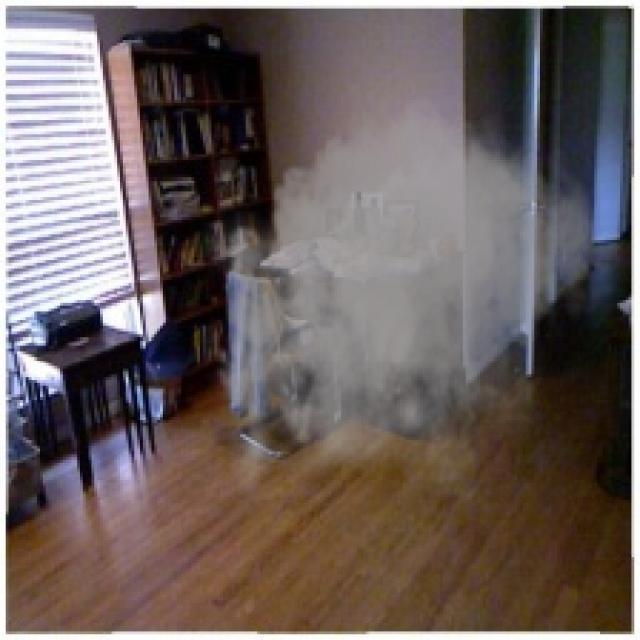Smoke: (197, 86, 609, 508)
